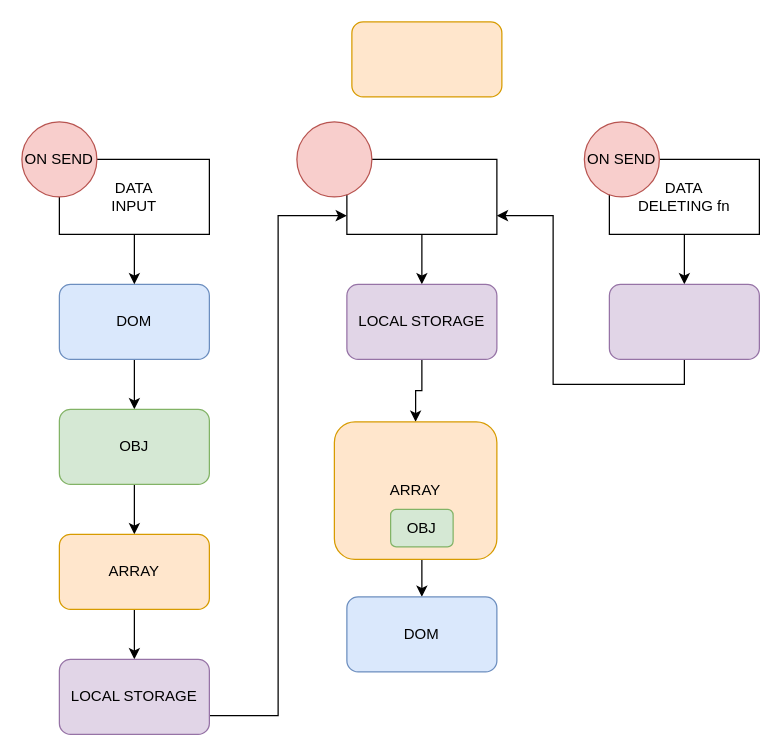
Some shapes in this 781 by 756 pixel diagram are drawn without their labels. Here are the shapes that lost their labels. From the top down, the centre of each, then its label:
[426,59]: ARRAY = [ ]
[334,159]: ON PAGE LOADING
[421,196]: DATA OUTPUT fn
[683,321]: SEARCH AND DELETING IN LOCAL STORAGE
